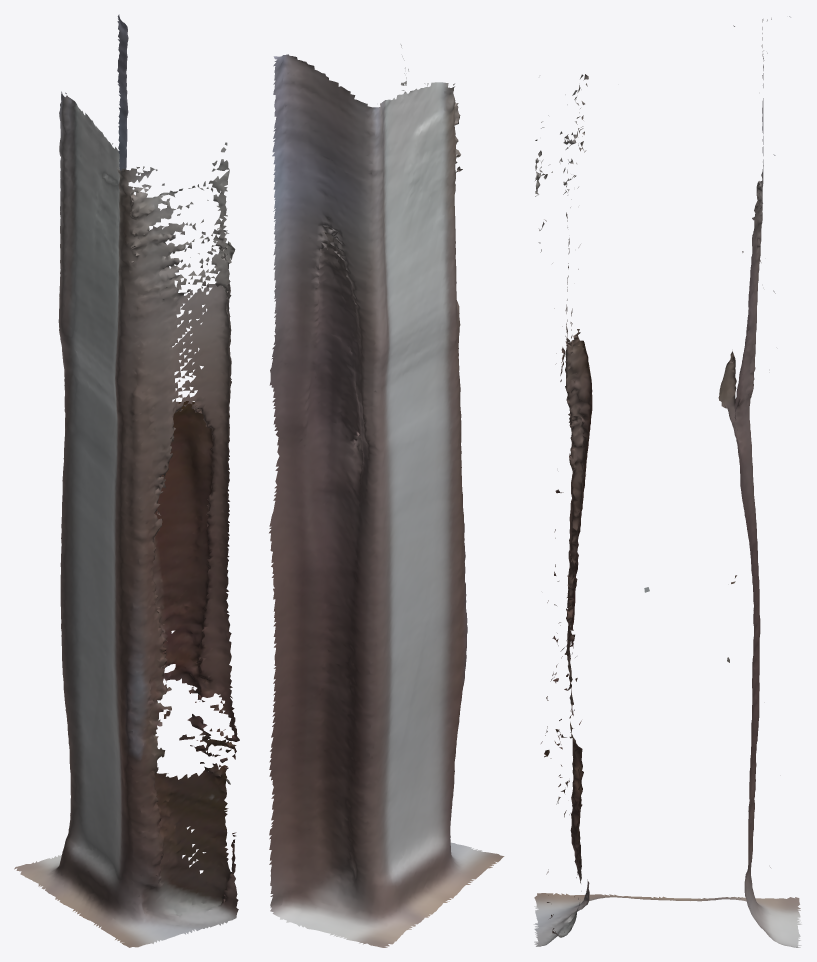
The model's file is apartment-full-119-07775e63d169.glb.
3 renders of one model, left to right at view 1: azimuth 30°, elevation 25°; view 2: azimuth 150°, elevation 25°; view 3: azimuth 270°, elevation 25°, orthographic. The views are drawn at different scales.
Bounding box in the file's own units: 0.287 × 2 × 0.519.
